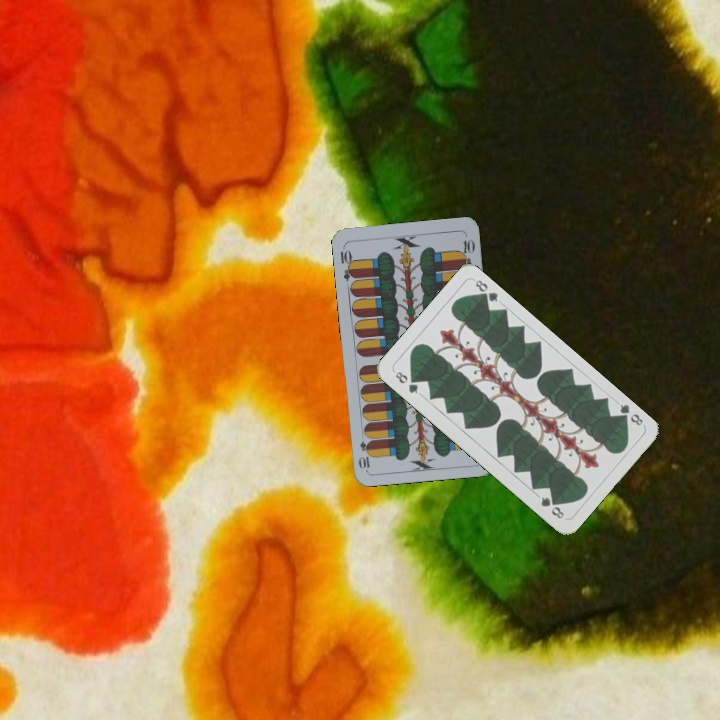E10: (336, 242, 358, 283)
G8: (614, 400, 646, 428), (391, 367, 421, 396)
